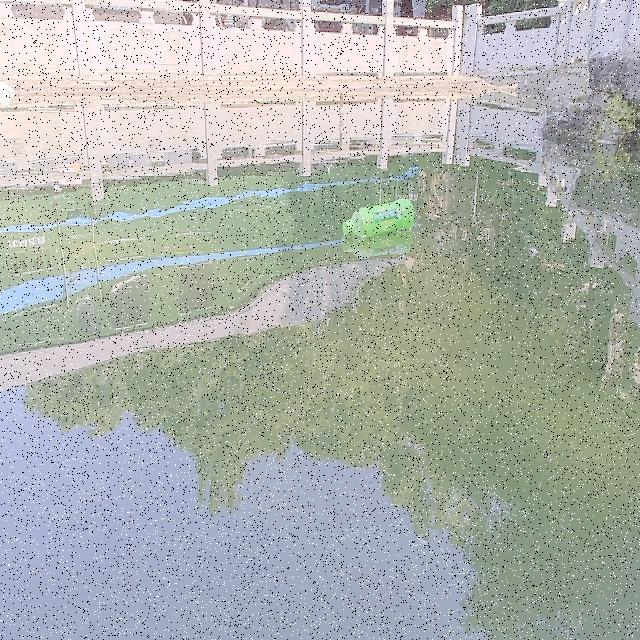bottle: (340, 196, 415, 240)
